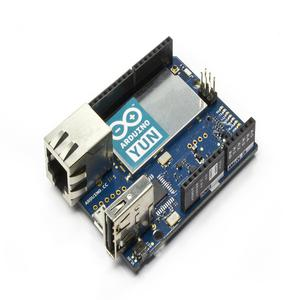duino: (42, 31, 271, 281)
